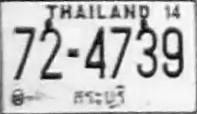2: (39, 28, 62, 79)
3: (135, 24, 157, 77)
4: (83, 26, 105, 78)
7: (12, 25, 35, 79), (109, 25, 131, 78)
9: (161, 26, 183, 77)
SRI: (72, 83, 127, 110)
